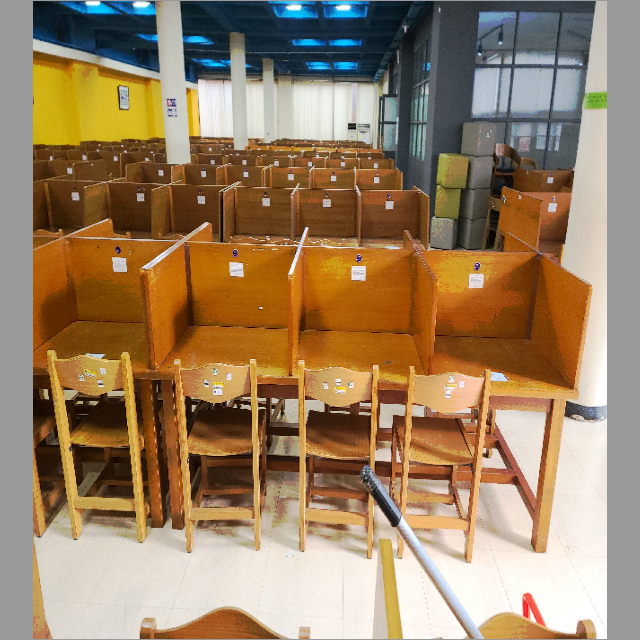empty: (436, 247, 584, 456), (157, 252, 291, 440), (301, 251, 425, 452)
